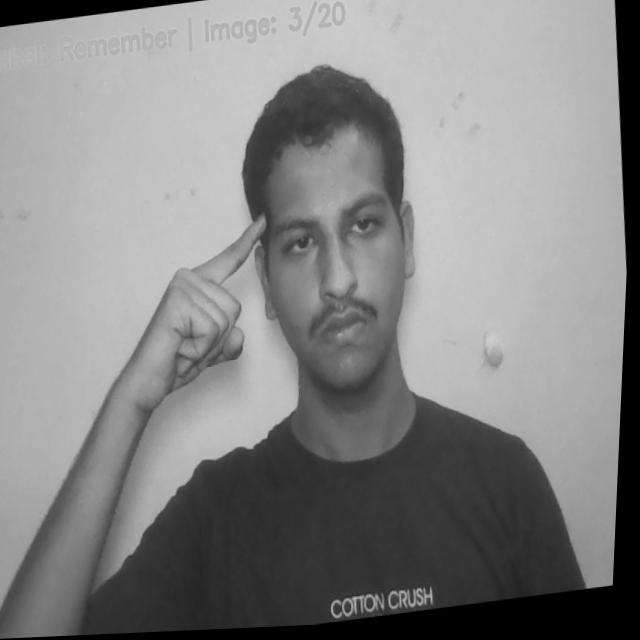Remember: (81, 213, 286, 464)
